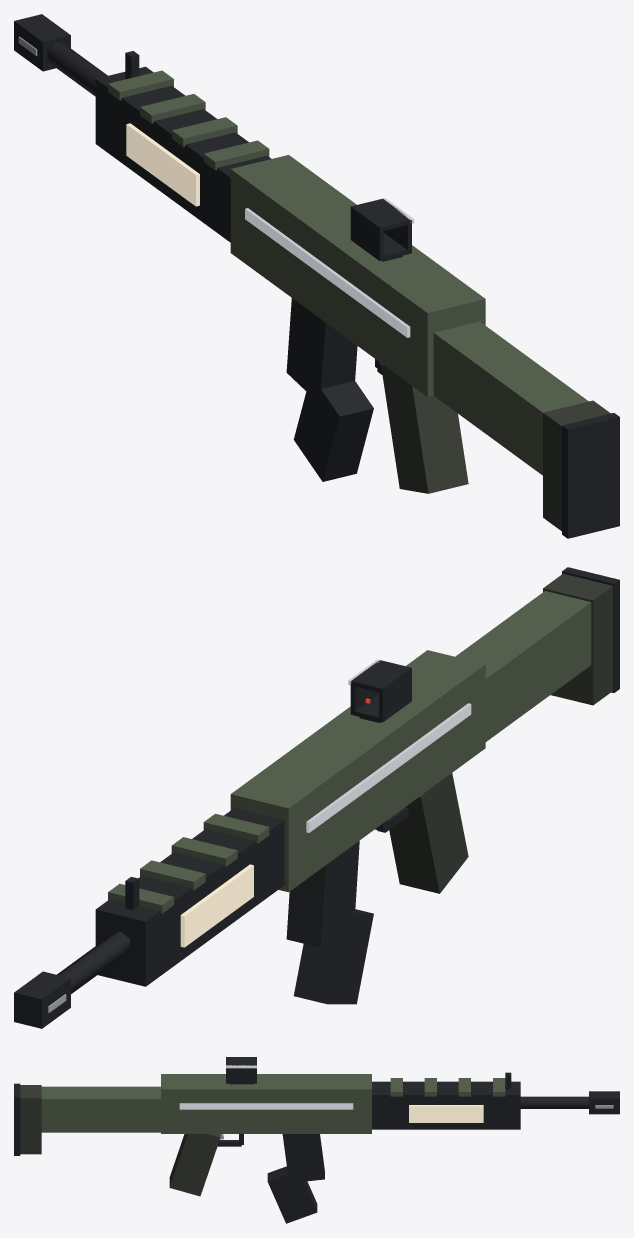
File: BO_SK_Weapon_Rifle_v001.glb
3 views of the same model, one above another, from view 1: azimuth 30°, elevation 25°; view 2: azimuth 150°, elevation 25°; view 3: azimuth 270°, elevation 25° (orthographic). The views are drawn at different scales.
Visible parts, largest first — view 1: body_000, body_023, body_001, body_019, body_025, body_018, body_017, body_024, glowfx_029, glowfx_027, body_007, body_006 (+6 smaller); view 2: body_000, body_001, body_023, body_019, body_017, body_018, body_024, glowfx_029, body_007, glowfx_027, body_006, body_025 (+6 smaller); view 3: body_000, body_023, body_001, body_019, body_017, body_018, body_024, glowfx_028, glowfx_026, body_006, body_007, body_025 (+2 smaller).
Boxes of the visible parts, bbox=[...] form: body_000: bbox=[230, 155, 485, 396]; body_023: bbox=[433, 321, 588, 475]; body_001: bbox=[95, 66, 271, 242]; body_019: bbox=[381, 364, 468, 493]; body_025: bbox=[562, 413, 619, 538]; body_018: bbox=[293, 375, 373, 481]; body_017: bbox=[286, 298, 357, 403]; body_024: bbox=[543, 400, 610, 531]; glowfx_029: bbox=[126, 123, 199, 206]; glowfx_027: bbox=[245, 208, 410, 337]; body_007: bbox=[14, 14, 70, 71]; body_006: bbox=[47, 42, 107, 96]; body_000: bbox=[230, 650, 485, 892]; body_001: bbox=[95, 808, 284, 986]; body_023: bbox=[455, 591, 591, 741]; body_019: bbox=[389, 773, 468, 893]; body_017: bbox=[286, 841, 359, 947]; body_018: bbox=[293, 909, 373, 1004]; body_024: bbox=[543, 573, 613, 705]; glowfx_029: bbox=[180, 864, 253, 947]; body_007: bbox=[14, 971, 70, 1028]; glowfx_027: bbox=[306, 703, 471, 832]; body_006: bbox=[57, 931, 130, 993]; body_025: bbox=[562, 567, 619, 692]; body_000: bbox=[161, 1074, 371, 1133]; body_023: bbox=[41, 1086, 160, 1132]; body_001: bbox=[372, 1081, 520, 1129]; body_019: bbox=[169, 1134, 220, 1196]; body_017: bbox=[282, 1134, 324, 1183]; body_018: bbox=[267, 1166, 317, 1223]; body_024: bbox=[20, 1085, 41, 1154]; glowfx_028: bbox=[409, 1105, 483, 1122]; glowfx_026: bbox=[179, 1103, 353, 1109]; body_006: bbox=[520, 1096, 588, 1108]; body_007: bbox=[589, 1091, 619, 1114]; body_025: bbox=[14, 1083, 20, 1155].
Bounding box in the file's own units: 0.064 × 0.2812 × 0.977.
